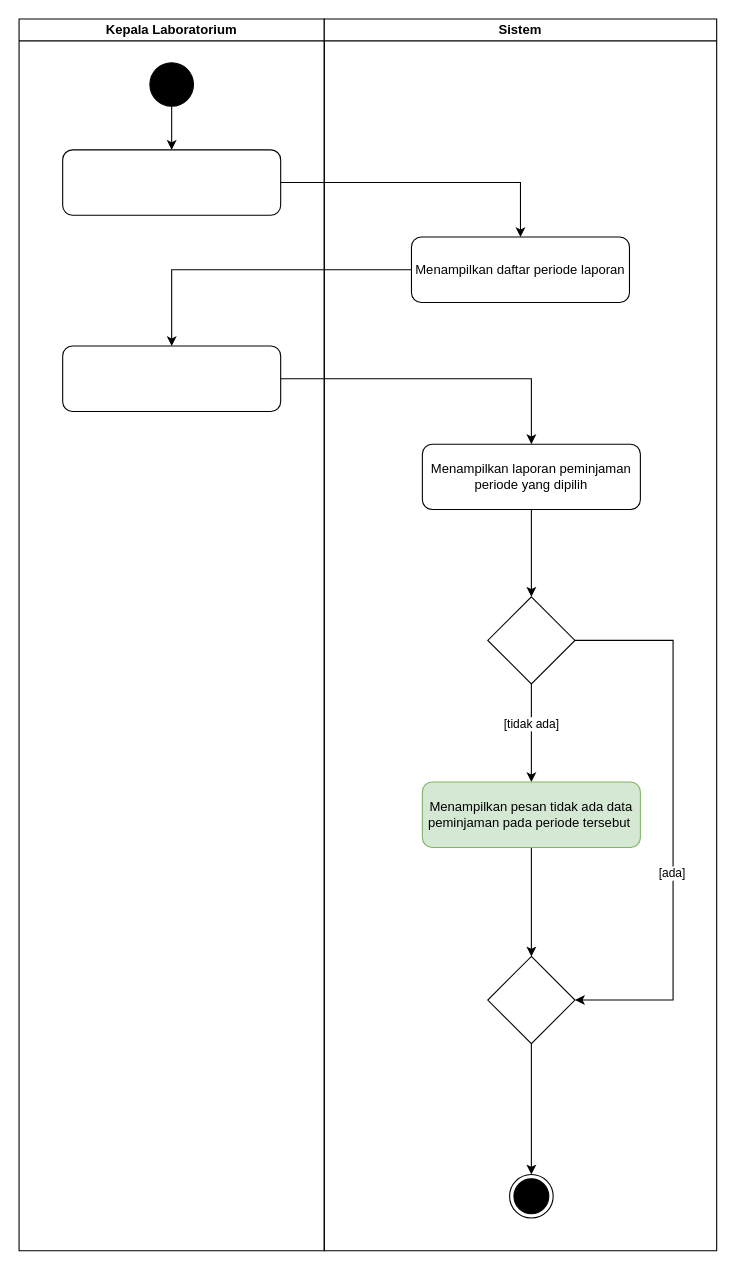
The diagram is 736 pixels wide and 1270 high, and some of its shapes have lost their labels. The shapes that lost their labels are listed below. From the top down, each one's box as (x1, y1, x2, y2) in pixels, then its label:
(62, 149, 281, 215): Membuka fungsi Lihat Laporan Peminjaman
(62, 345, 281, 411): Memilih periode laporan
